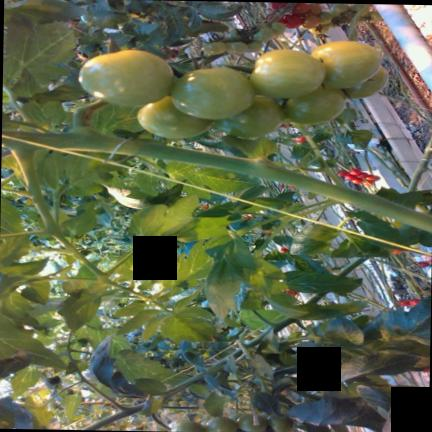6kp_peduncle: (36, 98, 129, 153)
6kp_petiole: (1, 129, 83, 209), (101, 394, 144, 423), (252, 309, 289, 336)
MainStem: (1, 129, 432, 231), (79, 400, 144, 430), (246, 315, 297, 344), (407, 134, 432, 190)
tomato: (78, 49, 172, 105), (170, 66, 253, 118), (249, 49, 325, 97), (311, 40, 380, 87), (137, 95, 211, 137), (214, 96, 283, 136), (283, 85, 346, 123), (343, 65, 387, 97), (236, 413, 266, 431), (204, 416, 237, 432), (266, 414, 292, 432), (170, 419, 204, 432), (253, 26, 275, 41), (202, 41, 226, 54), (278, 14, 302, 27), (300, 13, 319, 28), (227, 41, 248, 53), (329, 2, 348, 15), (291, 2, 308, 14), (270, 21, 285, 34), (308, 23, 327, 33), (317, 11, 332, 23), (328, 15, 344, 26), (367, 10, 381, 22), (247, 40, 262, 51), (268, 1, 287, 9), (228, 28, 241, 39), (308, 2, 321, 13), (168, 418, 185, 426), (348, 168, 361, 174), (408, 298, 419, 305), (357, 171, 368, 177), (343, 173, 354, 179), (398, 299, 409, 305), (178, 399, 188, 405), (350, 177, 361, 182), (337, 170, 347, 175), (168, 400, 178, 405), (365, 174, 374, 179)
